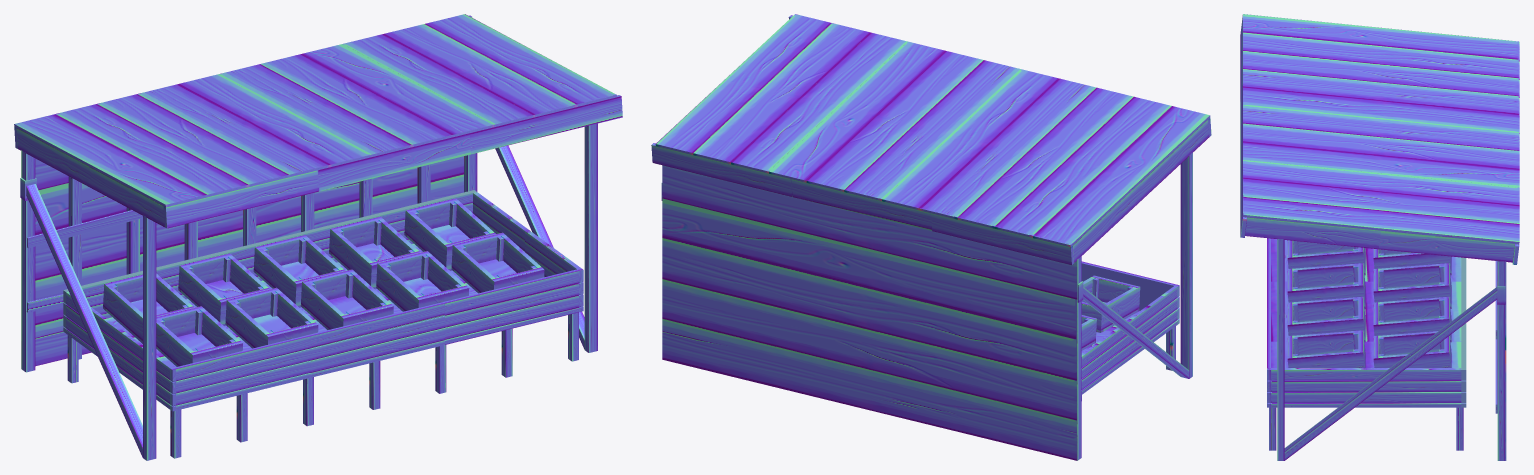
File: SM_MarketNew.fbx
3 views of the same model, side by side, from view 1: azimuth 30°, elevation 25°; view 2: azimuth 150°, elevation 25°; view 3: azimuth 270°, elevation 25° (orthographic). The views are drawn at different scales.
Parts seen in each view (by area): view 1: SM_Market_A; view 2: SM_Market_A; view 3: SM_Market_A.
Part boxes in pixels (left/top/right/bottom): SM_Market_A: left=14, top=14, right=622, bottom=460; SM_Market_A: left=651, top=14, right=1211, bottom=460; SM_Market_A: left=1240, top=14, right=1519, bottom=460.
Bounding box in the file's own units: 393 × 222 × 228.
